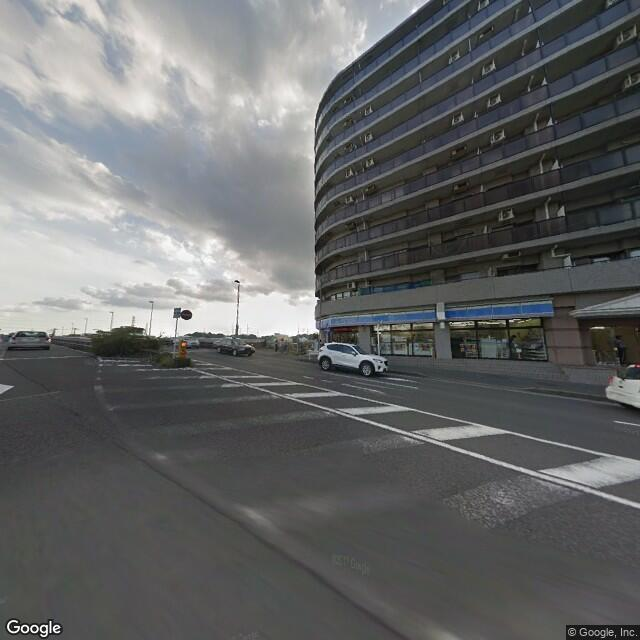lawson: (318, 298, 554, 330)
